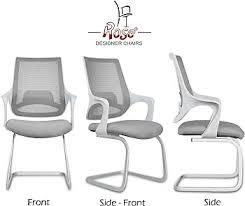chair: (84, 53, 170, 199), (0, 53, 80, 197), (168, 55, 245, 198)
